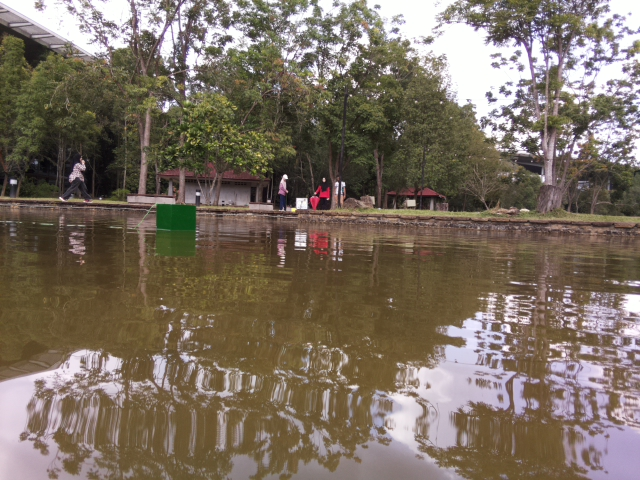obstacle: (155, 202, 197, 231)
